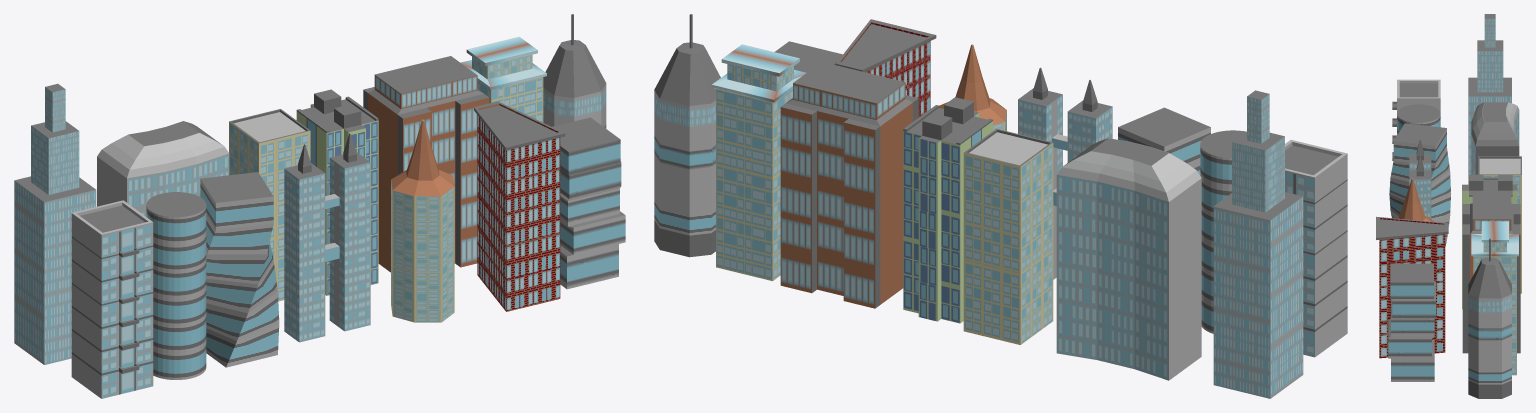
The model's file is bulidings.fbx.
3 renders of one model, left to right at view 1: azimuth 30°, elevation 25°; view 2: azimuth 150°, elevation 25°; view 3: azimuth 270°, elevation 25°, orthographic. The views are drawn at different scales.
Visible parts, largest first — view 1: Cube.006, Cube.007, Cube.009, Cube.002, Cube.004, Cube.008, Cube.010, Cylinder, Cube.011, Cube, Cube.001, Cube.003 (+2 smaller); view 2: Cube, Cube.004, Cube.002, Cube.001, Cube.005, Cube.003, Cube.012, Cube.007, Cube.009, Cube.006, Cylinder, Cube.008 (+2 smaller); view 3: Cube.012, Cube.011, Cube.006, Cube.008, Cube.004, Cube.002, Cube, Cube.005, Cube.007, Cube.001, Cube.003, Cube.009 (+2 smaller).
Part boxes in pixels (bbox=[...]): Cube.006: bbox=[474, 101, 565, 311]; Cube.007: bbox=[71, 200, 153, 398]; Cube.009: bbox=[284, 133, 370, 342]; Cube.002: bbox=[14, 83, 96, 364]; Cube.004: bbox=[363, 56, 489, 272]; Cube.008: bbox=[200, 172, 279, 367]; Cube.010: bbox=[391, 119, 454, 322]; Cylinder: bbox=[146, 192, 206, 379]; Cube.011: bbox=[552, 117, 625, 289]; Cube: bbox=[97, 121, 229, 216]; Cube.001: bbox=[229, 109, 310, 301]; Cube.003: bbox=[296, 89, 378, 295]; Cube: bbox=[1056, 138, 1201, 380]; Cube.004: bbox=[780, 62, 918, 308]; Cube.002: bbox=[1213, 90, 1303, 398]; Cube.001: bbox=[963, 128, 1053, 344]; Cube.005: bbox=[711, 44, 806, 281]; Cube.003: bbox=[903, 97, 992, 323]; Cube.012: bbox=[654, 14, 720, 257]; Cube.007: bbox=[1285, 139, 1347, 357]; Cube.009: bbox=[1018, 67, 1112, 279]; Cube.006: bbox=[835, 19, 936, 117]; Cylinder: bbox=[1200, 130, 1245, 333]; Cube.008: bbox=[1118, 107, 1210, 175]; Cube.012: bbox=[1468, 238, 1511, 398]; Cube.011: bbox=[1388, 263, 1435, 381]; Cube.006: bbox=[1376, 216, 1448, 358]; Cube.008: bbox=[1389, 123, 1450, 246]; Cube.004: bbox=[1462, 192, 1520, 353]; Cube.002: bbox=[1468, 14, 1511, 184]; Cube: bbox=[1471, 102, 1519, 174]; Cube.005: bbox=[1471, 221, 1518, 375]; Cube.007: bbox=[1392, 79, 1440, 160]; Cube.001: bbox=[1478, 156, 1521, 293]; Cube.003: bbox=[1462, 174, 1517, 309]; Cube.009: bbox=[1409, 139, 1431, 218].
Bounding box in the file's own units: 2194 × 962 × 668.
